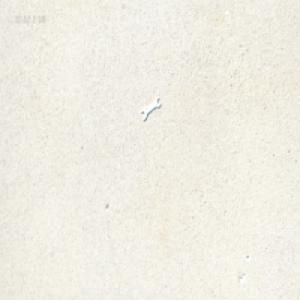Wrench: (140, 97, 161, 121)
